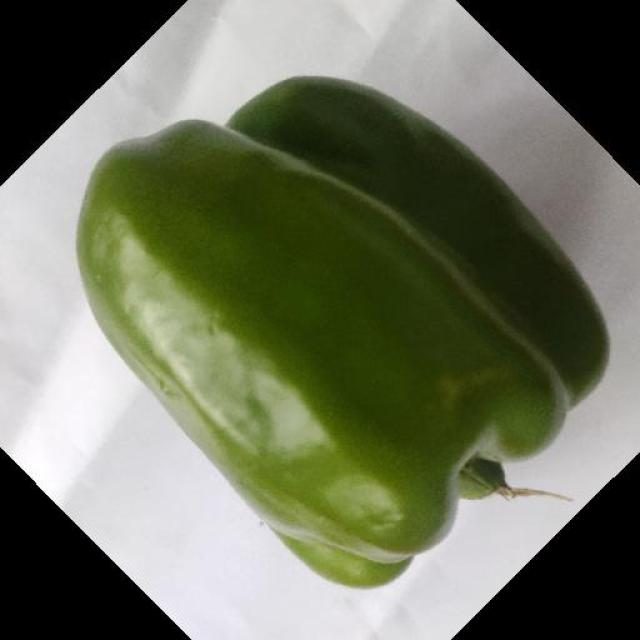Fresh_Capsicum: (70, 117, 578, 585)
